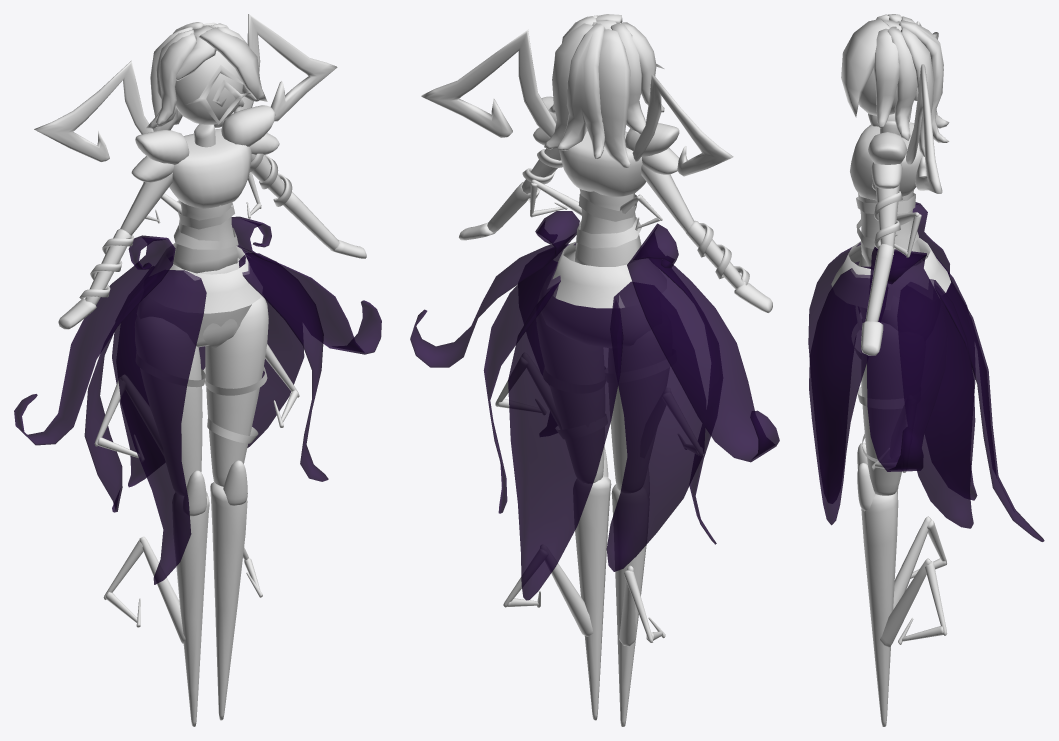
File: SM_ItamiPlaceholder.fbx
3 renders of one model, left to right at view 1: azimuth 30°, elevation 25°; view 2: azimuth 150°, elevation 25°; view 3: azimuth 270°, elevation 25°, orthographic.
Visible parts, largest first — view 1: Plane.004, Itami Test, Cube.003, Cube.021, Cube.019, Cube.007, Cube.010, Cube.028, Cube.001, Cube, Cube.012, Cube.015 (+5 smaller); view 2: Plane.004, Itami Test, Cube.028, Cube.019, Cube.003, Cube.010, Cube.007, Cube.021, Cube, Cube.001, Cube.015, Cube.002 (+3 smaller); view 3: Plane.004, Cube.028, Cube.010, Itami Test, Cube.019, Cube.021, Cube, Cube.007, Cube.004, Cube.005, Cube.006, Cube.012.
Boxes of the visible parts, x1,y1,x2,y2 form: Plane.004: [14, 216, 381, 584]; Itami Test: [137, 172, 262, 348]; Cube.003: [94, 316, 205, 495]; Cube.021: [131, 105, 279, 208]; Cube.019: [203, 295, 299, 486]; Cube.007: [103, 470, 209, 726]; Cube.010: [210, 460, 262, 720]; Cube.028: [146, 22, 267, 131]; Cube.001: [34, 60, 153, 161]; Cube: [234, 14, 337, 121]; Cube.012: [175, 50, 243, 124]; Cube.015: [79, 229, 133, 304]; Plane.004: [410, 211, 779, 600]; Itami Test: [530, 179, 666, 347]; Cube.028: [544, 14, 664, 167]; Cube.019: [495, 313, 607, 483]; Cube.003: [605, 330, 703, 492]; Cube.010: [503, 447, 611, 720]; Cube.007: [611, 468, 665, 726]; Cube.021: [533, 96, 679, 196]; Cube: [421, 29, 556, 137]; Cube.001: [632, 74, 733, 176]; Cube.015: [684, 220, 749, 289]; Cube.002: [641, 164, 693, 232]; Plane.004: [808, 202, 1044, 541]; Cube.028: [841, 14, 949, 156]; Cube.010: [857, 462, 946, 726]; Itami Test: [831, 190, 950, 329]; Cube.019: [857, 322, 906, 495]; Cube.021: [850, 113, 922, 200]; Cube: [906, 64, 942, 193]; Cube.007: [857, 442, 946, 609]; Cube.004: [872, 181, 902, 254]; Cube.005: [865, 243, 894, 321]; Cube.006: [861, 321, 883, 355]; Cube.012: [858, 68, 917, 115].
Bounding box in the file's own units: 224 × 412 × 126.
